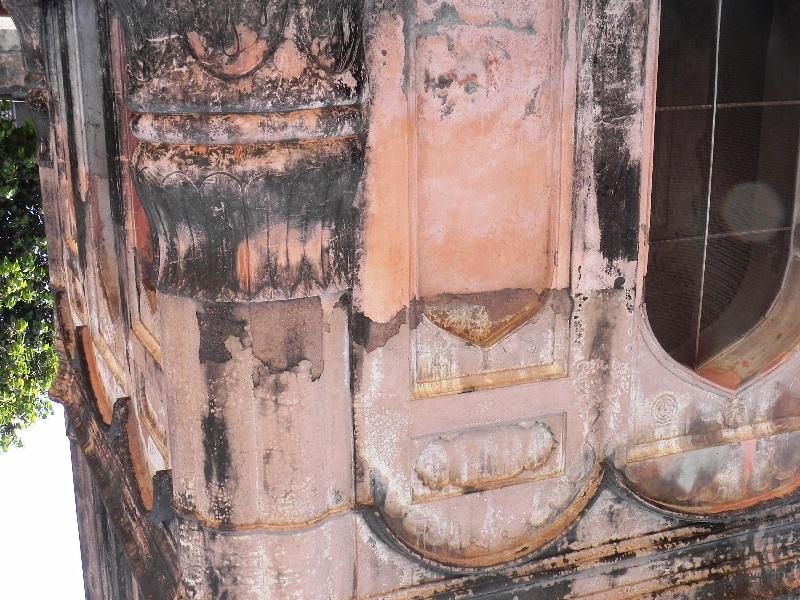Spalling: (443, 280, 588, 322), (341, 290, 423, 360)
